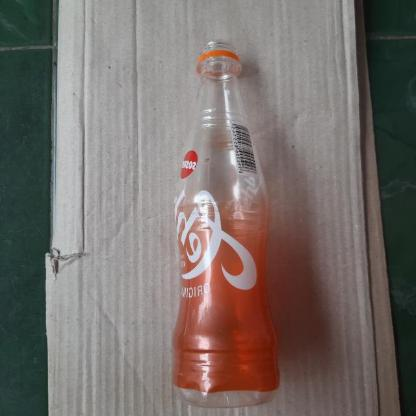Plastic Bottle: (171, 40, 280, 408)
